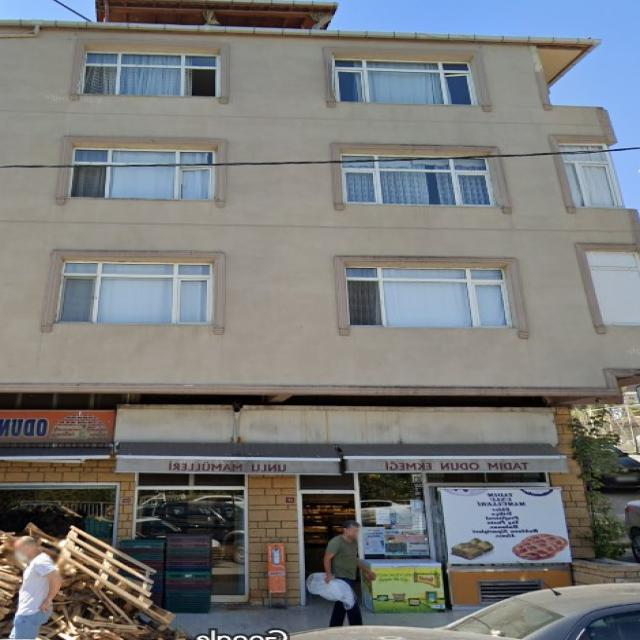Building: (0, 0, 639, 605)
